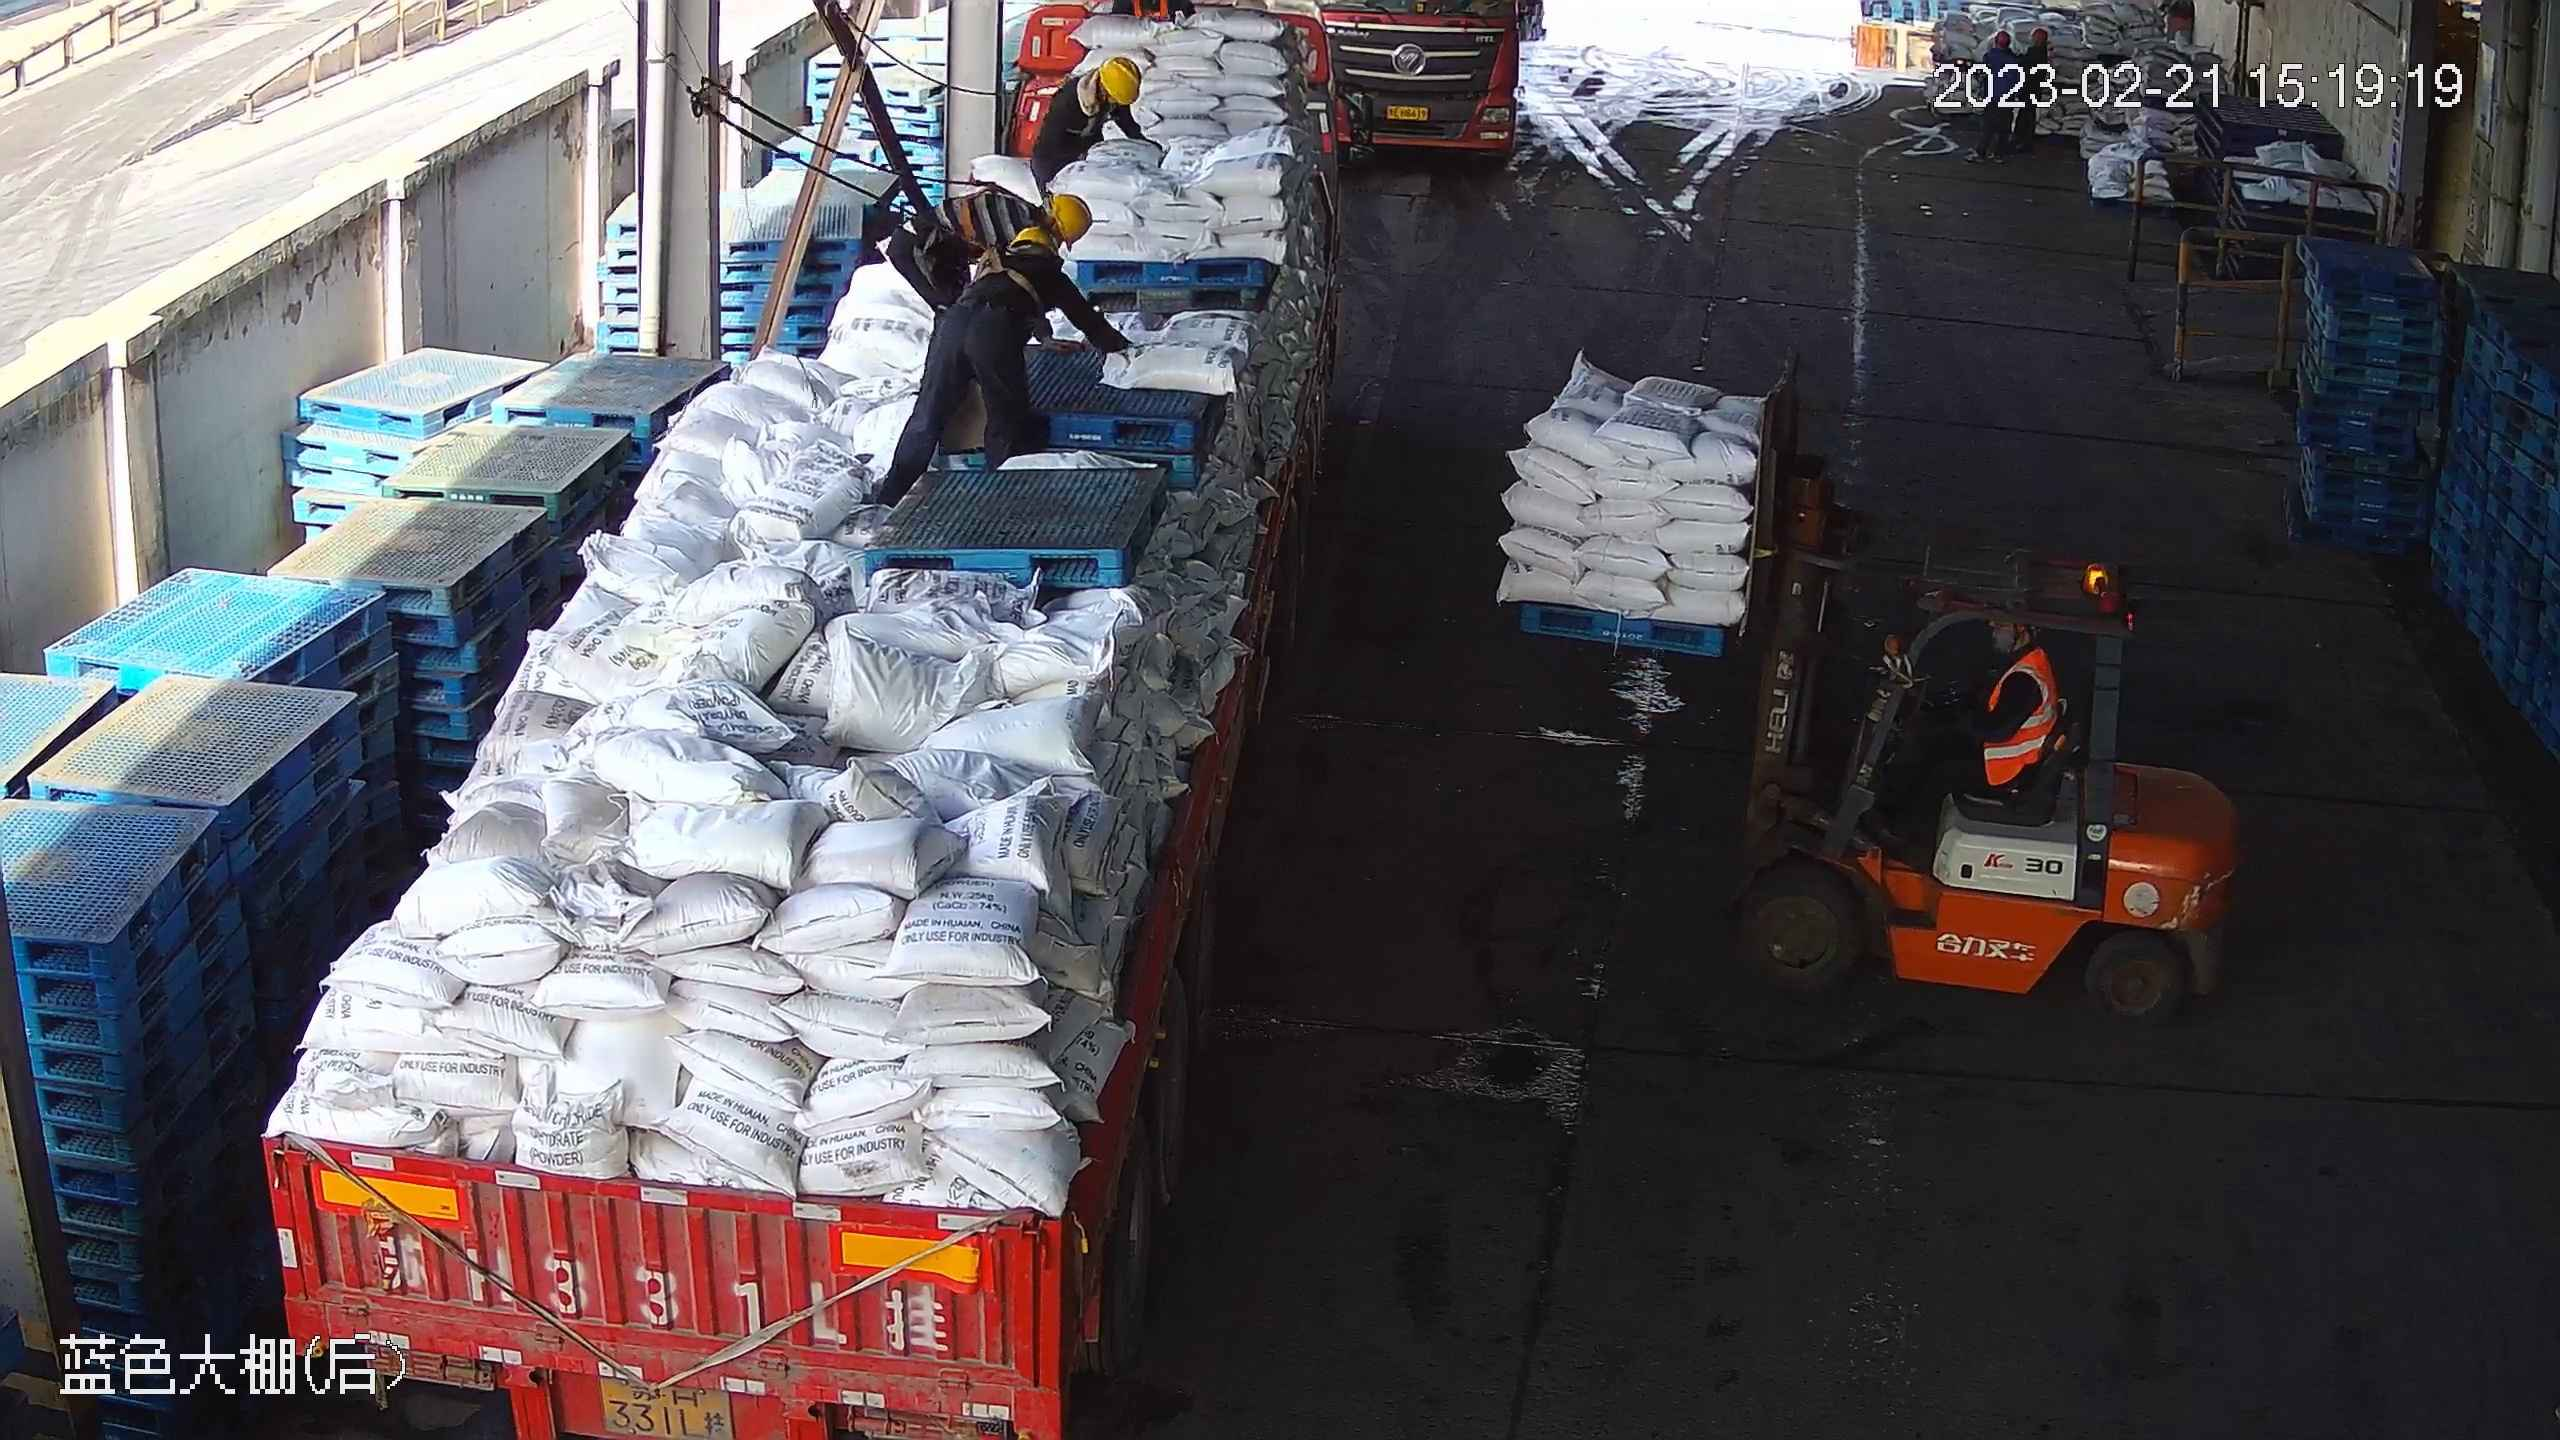belt: (968, 227, 1031, 295), (976, 168, 1046, 225)
head: (1983, 609, 2057, 720), (992, 177, 1099, 245), (1059, 58, 1133, 127)
helmet: (1101, 49, 1151, 108), (1057, 191, 1094, 234), (1014, 225, 1053, 247)
people: (1902, 605, 2062, 826)
truck: (225, 3, 1318, 1440), (1321, 1, 1546, 175)
